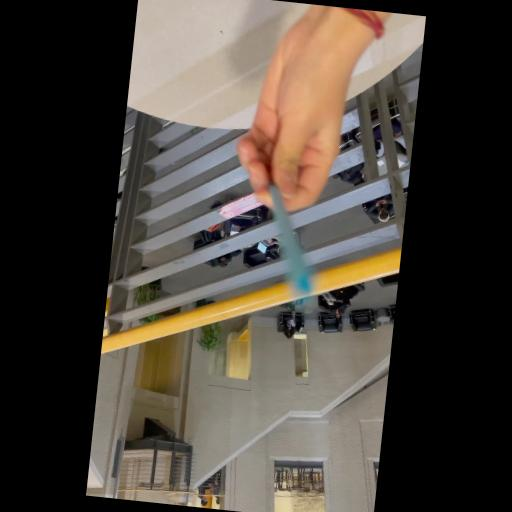straw: (256, 184, 324, 296)
